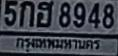4: (88, 2, 99, 28)
5: (4, 0, 16, 25)
8: (58, 1, 70, 26), (102, 3, 113, 28)
9: (72, 1, 84, 27)
A01: (19, 0, 34, 26)
A44: (36, 0, 53, 27)
BKK: (13, 34, 101, 54)
